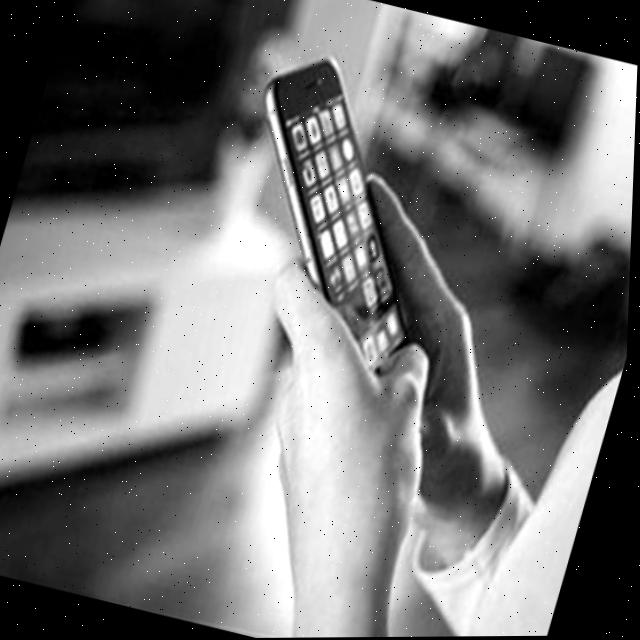phone: (194, 35, 486, 389)
